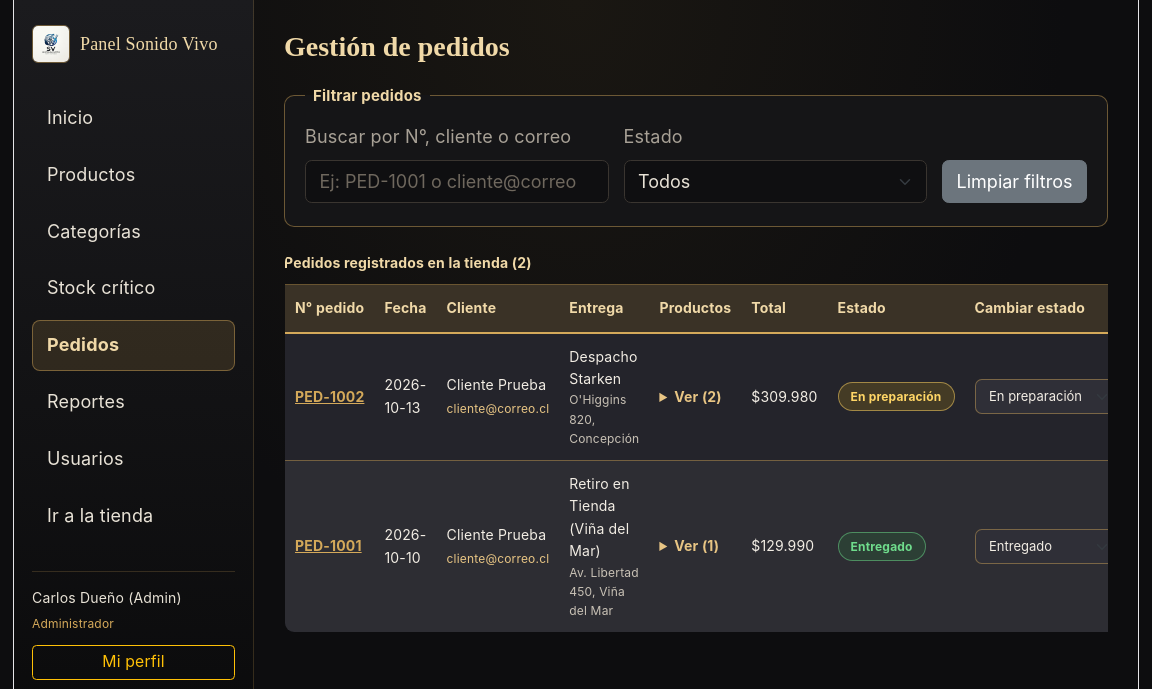
Test: Página AdminPedidos › avisa si la búsqueda no encuentra pedidos
The width and height of the screenshot is (1152, 689).
Type "no-existe" into the search field labelled "Buscar por N°, cliente o correo".
click(457, 182); type("no-existe")  # box [305,160,608,203]
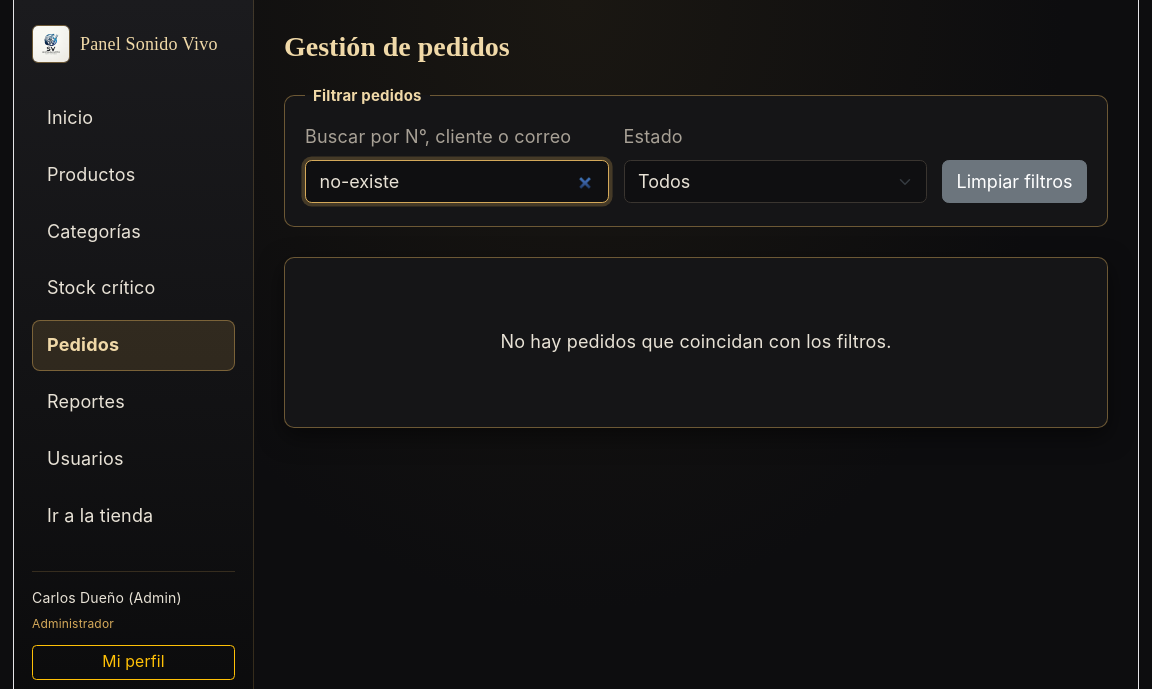
Now the text "No hay pedidos que coincidan con los filtros." is shown, box [284,257,1108,428]
